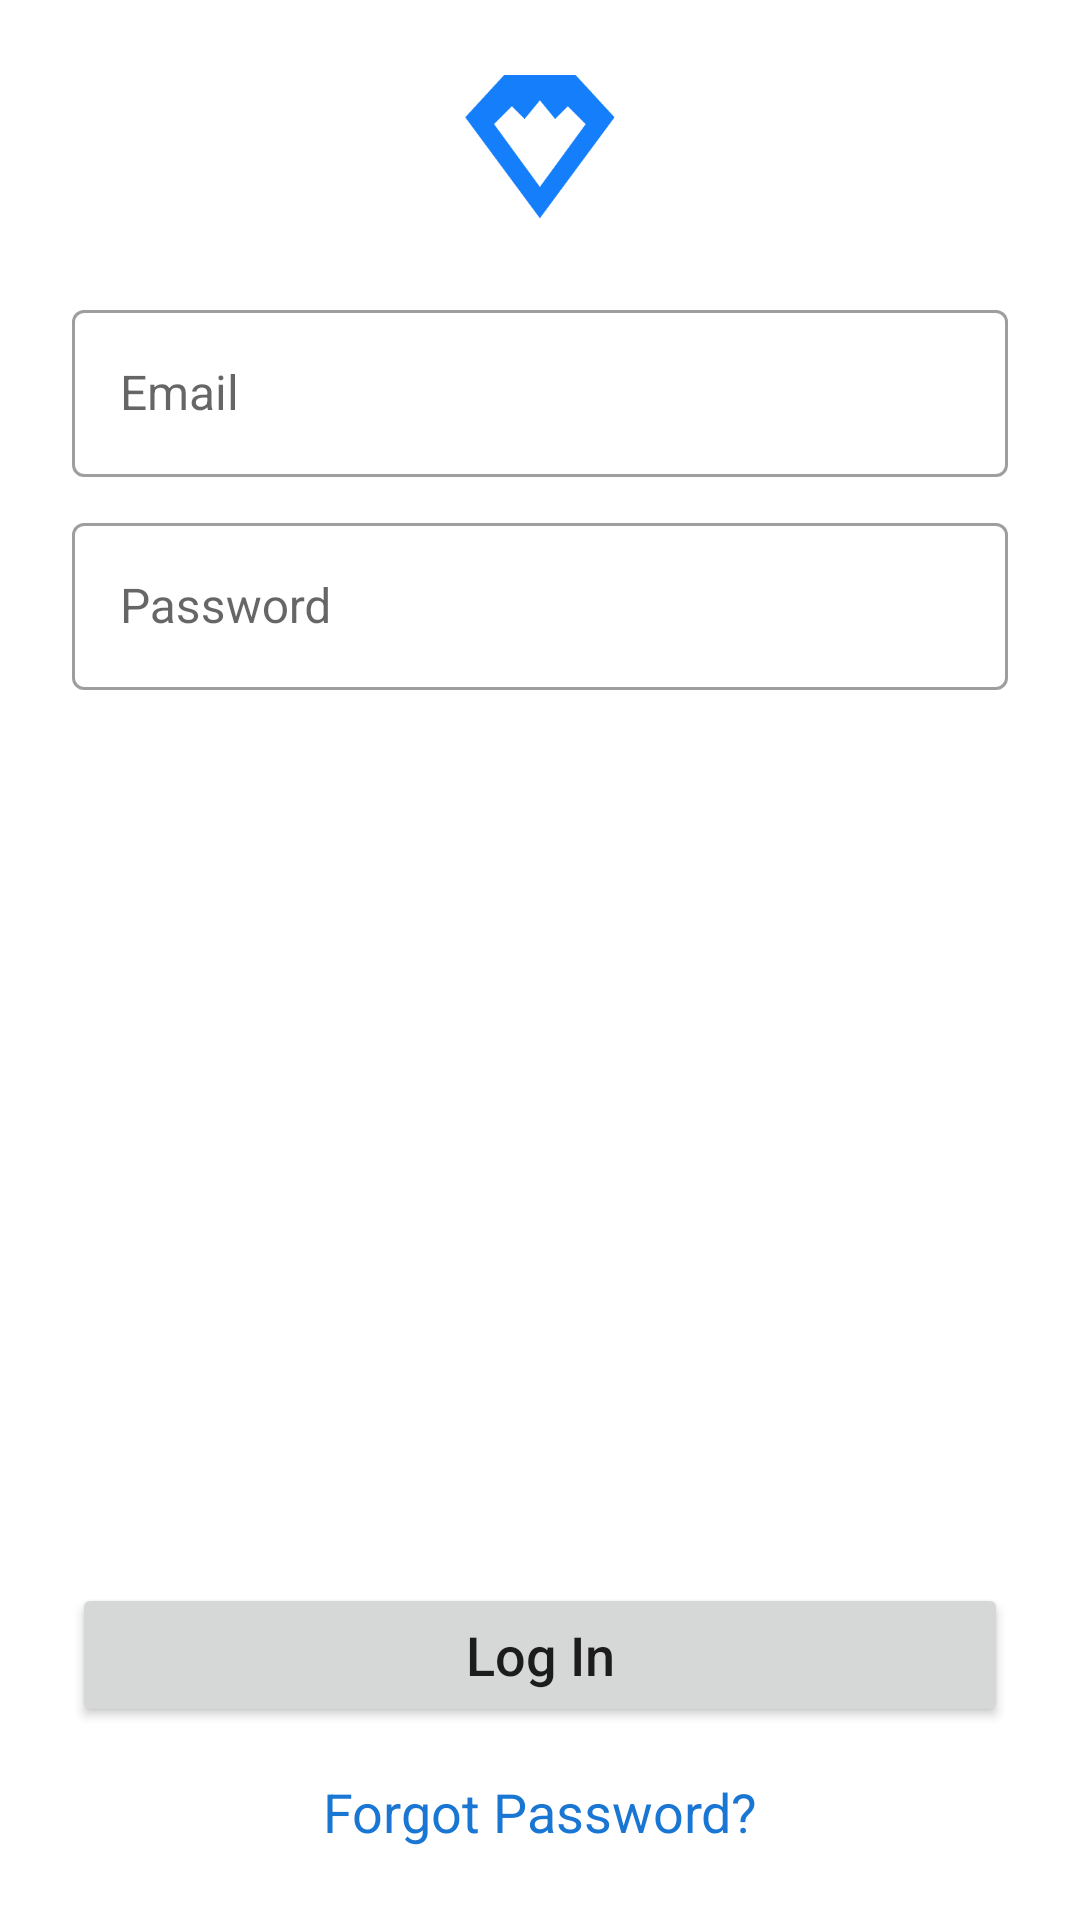

Named icons in this screenshot (1080px×1920px) and their bounding boxes, (x1, y1, x2, y2):
crystal: (465, 75, 615, 219)
